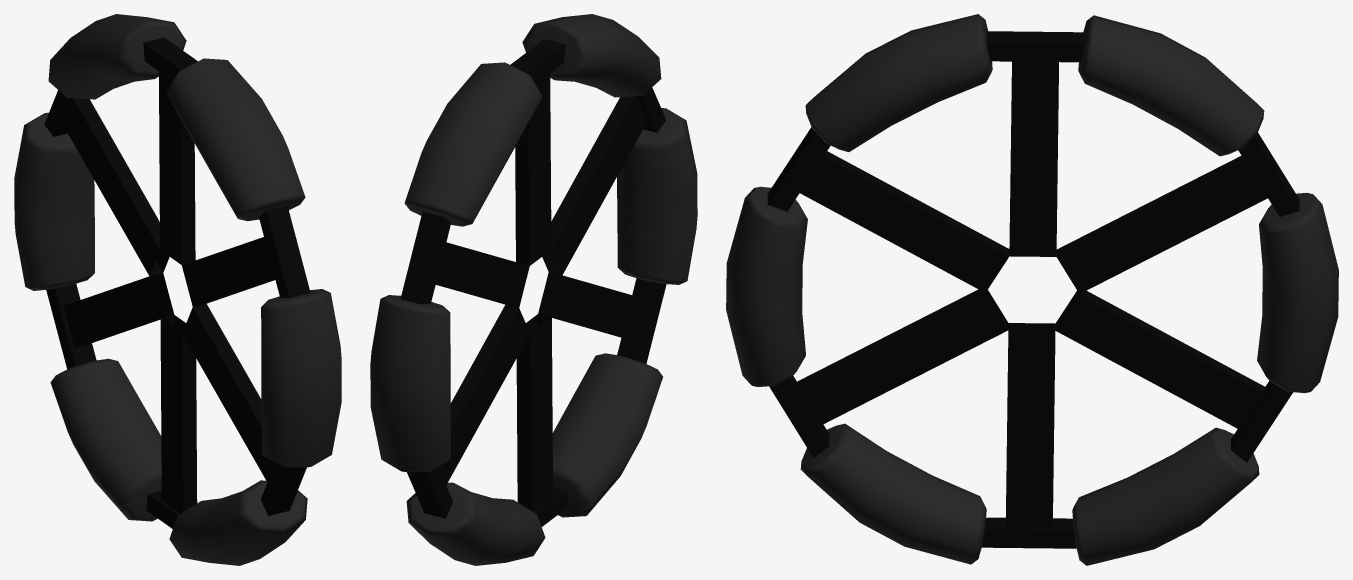
Rendered from Delivery_drone_007_wheels_001.fbx.
The picture shows the model from 3 angles, left to right: view 1: azimuth 30°, elevation 25°; view 2: azimuth 150°, elevation 25°; view 3: azimuth 270°, elevation 25°; orthographic projection. The views are drawn at different scales.
Parts seen in each view (by area): view 1: Delivery_drone_007_wheels_001; view 2: Delivery_drone_007_wheels_001; view 3: Delivery_drone_007_wheels_001.
Boxes of the visible parts, box(x1,y1,x2,y2) form: Delivery_drone_007_wheels_001: box(14, 14, 341, 565); Delivery_drone_007_wheels_001: box(370, 14, 697, 565); Delivery_drone_007_wheels_001: box(726, 14, 1338, 565).
Bounding box in the file's own units: 12.11 × 75.23 × 73.62.
